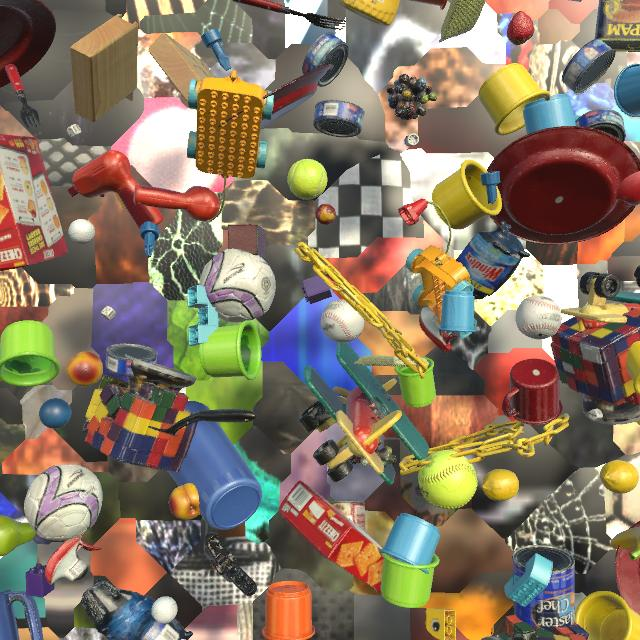ycb_002_master_chef_can: (512, 545, 575, 632)
ycb_003_cracker_box: (279, 480, 396, 595), (0, 134, 68, 271)
ycb_004_sugar_box: (636, 421, 640, 425)
ycb_005_tomato_soup_can: (329, 501, 366, 561)
ycb_006_mustard_bottle: (338, 0, 400, 26), (0, 380, 2, 382)
ycb_007_tuna_fish_can: (562, 39, 616, 95), (302, 32, 349, 87), (575, 108, 626, 153), (313, 99, 365, 137), (105, 343, 158, 377)
ycb_009_gelatin_box: (570, 0, 582, 2)
ycb_010_potted_meat_can: (595, 0, 640, 52)
ycb_011_banana: (611, 526, 640, 560)
ycb_012_strawberry: (507, 11, 534, 45)
ycb_013_apple: (611, 158, 640, 206)
ycb_014_lemon: (600, 460, 639, 494), (481, 469, 519, 501)
ycb_015_peach: (65, 351, 103, 387), (169, 483, 200, 520)
ycb_016_pear: (0, 515, 36, 557)
